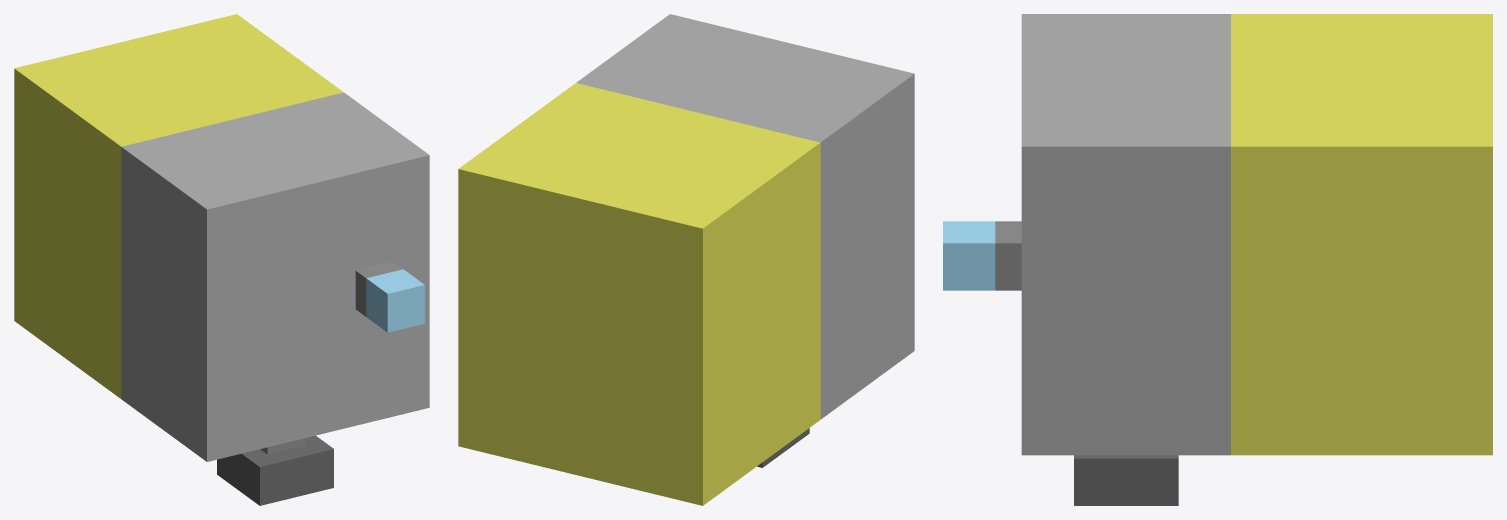
File: pooper body.obj
3 views of the same model, side by side, from view 1: azimuth 30°, elevation 25°; view 2: azimuth 150°, elevation 25°; view 3: azimuth 270°, elevation 25° (orthographic). The views are drawn at different scales.
Bounding box in the file's own units: 12 × 17 × 21.
Materials: 1 (1 with a texture image).
